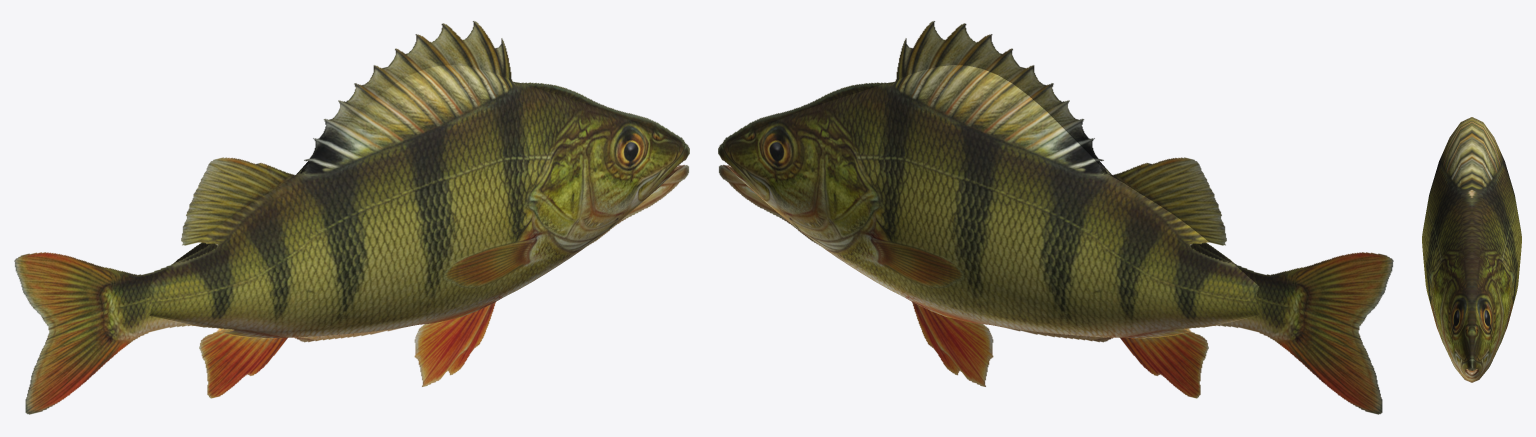
The model's file is perch.gltf.
3 views of the same model, side by side, from view 1: azimuth 30°, elevation 25°; view 2: azimuth 150°, elevation 25°; view 3: azimuth 270°, elevation 25° (orthographic). The views are drawn at different scales.
Parts seen in each view (by area): view 1: perch; view 2: perch; view 3: perch.
Boxes of the visible parts, x1=… form: perch: x1=14, y1=21, x2=689, y2=414; perch: x1=718, y1=21, x2=1393, y2=414; perch: x1=1422, y1=117, x2=1521, y2=382.
Size of the model in its own units: 1.04 by 0.53 by 0.1509.
1 material, 1 textured.
